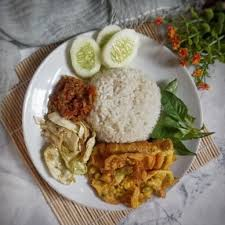Nasi putih: (89, 66, 162, 142)
Telur dadar: (84, 136, 177, 210)
